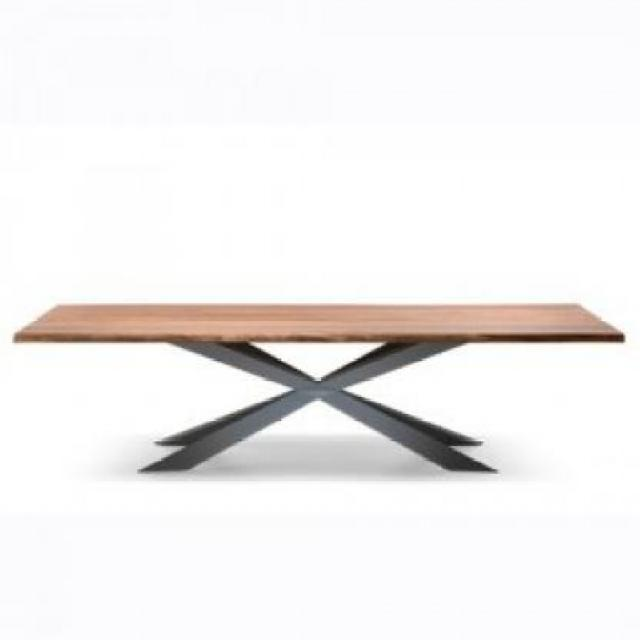table: (12, 302, 623, 480)
